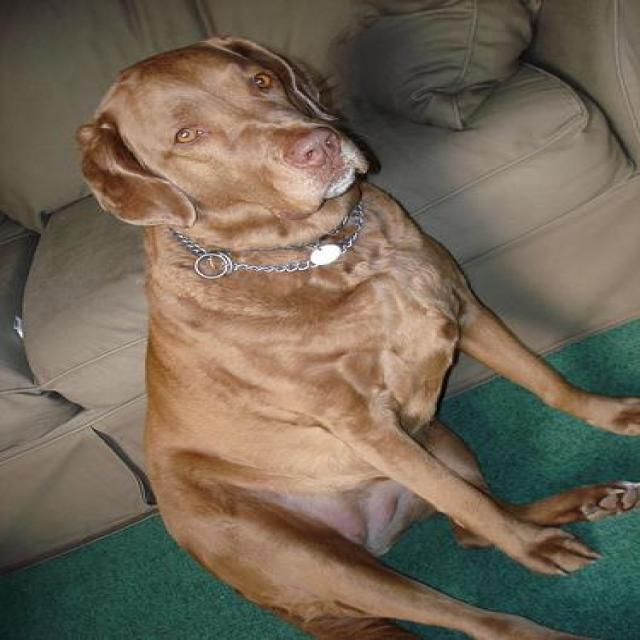sitting: (70, 28, 640, 637)
